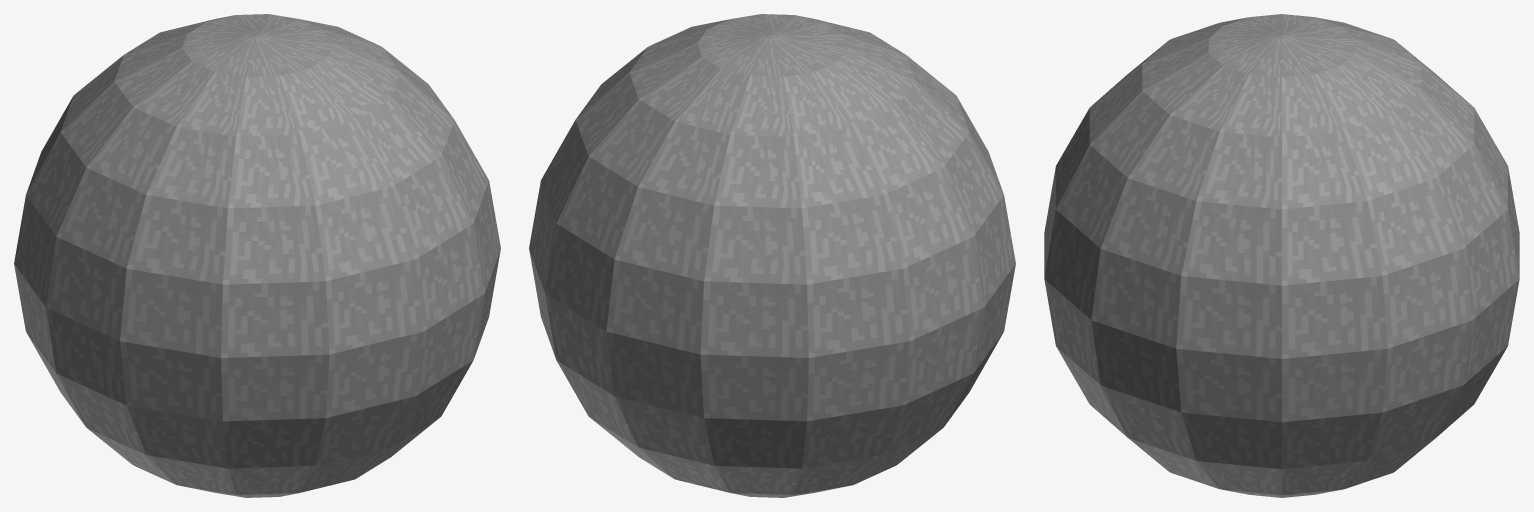
3 renders of one model, left to right at view 1: azimuth 30°, elevation 25°; view 2: azimuth 150°, elevation 25°; view 3: azimuth 270°, elevation 25°, orthographic.
Parts seen in each view (by area): view 1: SphereInner; view 2: SphereInner; view 3: SphereInner.
Boxes of the visible parts, bbox=[...] form: SphereInner: bbox=[14, 14, 500, 497]; SphereInner: bbox=[529, 14, 1015, 497]; SphereInner: bbox=[1044, 14, 1519, 497].
Size of the model in its own units: 2 by 2 by 1.95.
